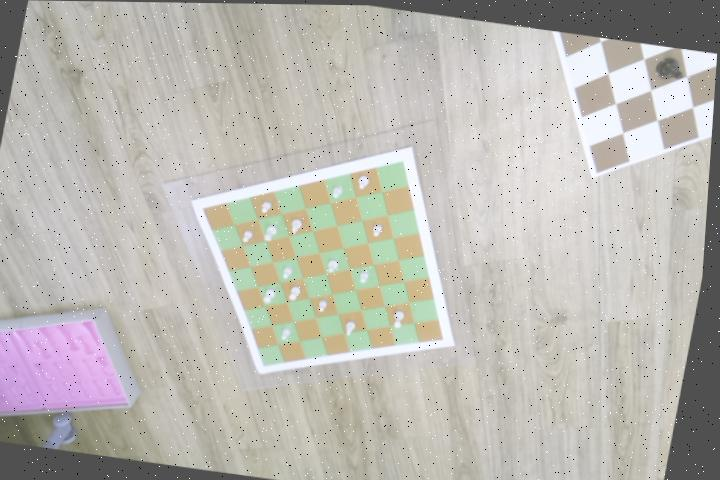chessboard-detect: (204, 158, 449, 366)
